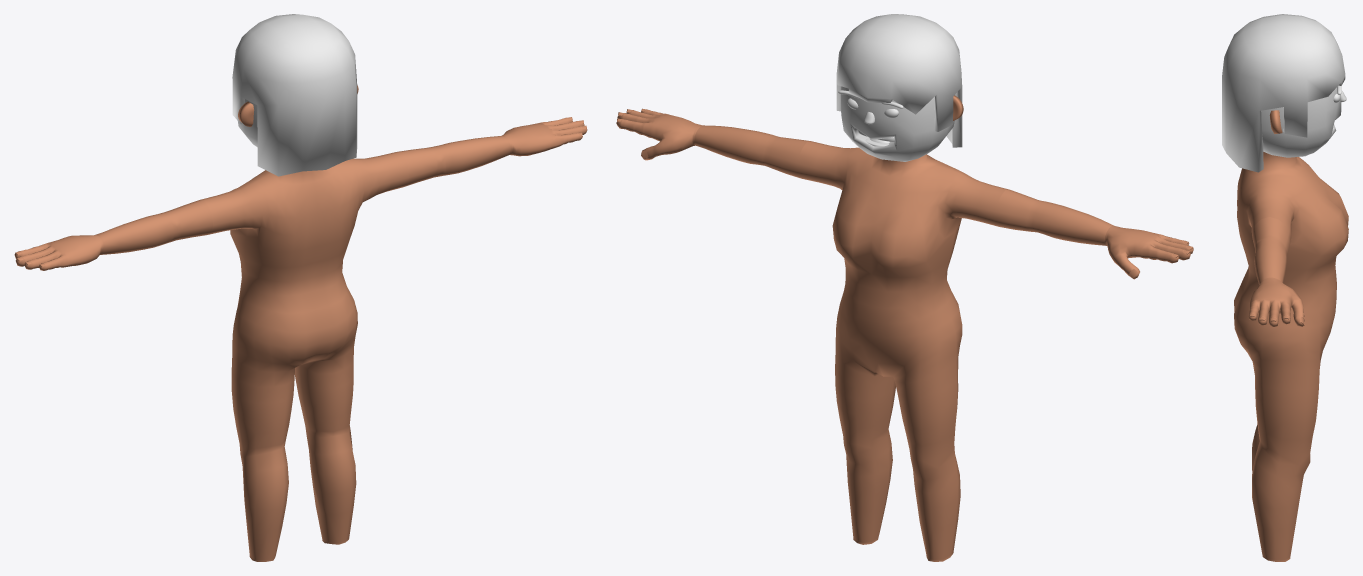
Rendered from DMS4-NPC-Design.fbx.
The picture shows the model from 3 angles, left to right: view 1: azimuth 30°, elevation 25°; view 2: azimuth 150°, elevation 25°; view 3: azimuth 270°, elevation 25°; orthographic projection. The views are drawn at different scales.
Parts seen in each view (by area): view 1: body.001, Hair; view 2: body.001, Hair, Head; view 3: body.001, Hair, Head, EARS.001.
Part boxes in pixels (bbox=[...]): body.001: bbox=[14, 117, 587, 561]; Hair: bbox=[232, 14, 357, 176]; body.001: bbox=[616, 108, 1193, 561]; Hair: bbox=[836, 14, 962, 147]; Head: bbox=[840, 86, 957, 161]; body.001: bbox=[1234, 152, 1348, 561]; Hair: bbox=[1222, 14, 1345, 172]; Head: bbox=[1261, 87, 1341, 157]; EARS.001: bbox=[1269, 110, 1282, 133].
Bounding box in the file's own units: 209 × 185 × 40.89.
